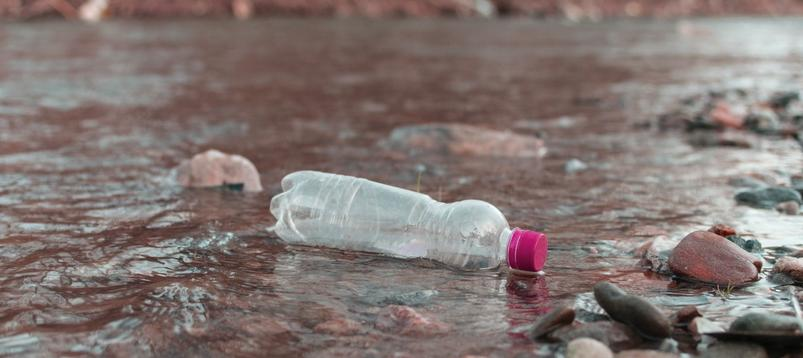Plastic: (269, 168, 575, 277)
